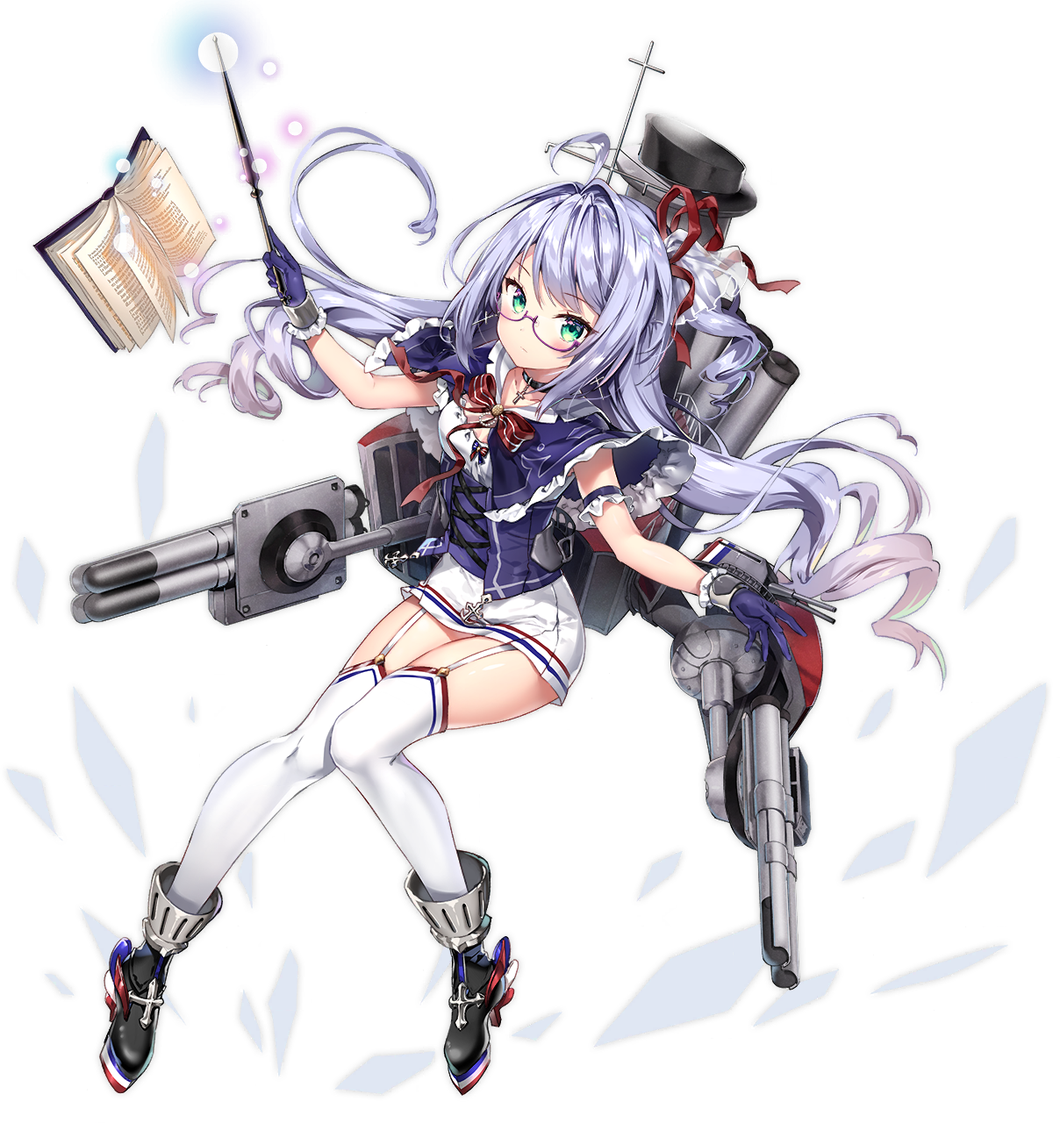person: (74, 82, 1055, 1122)
